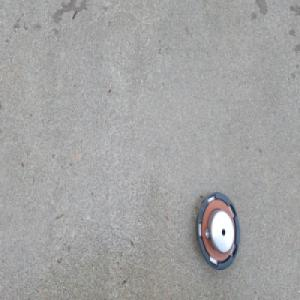FuelCap: (195, 186, 241, 270)
